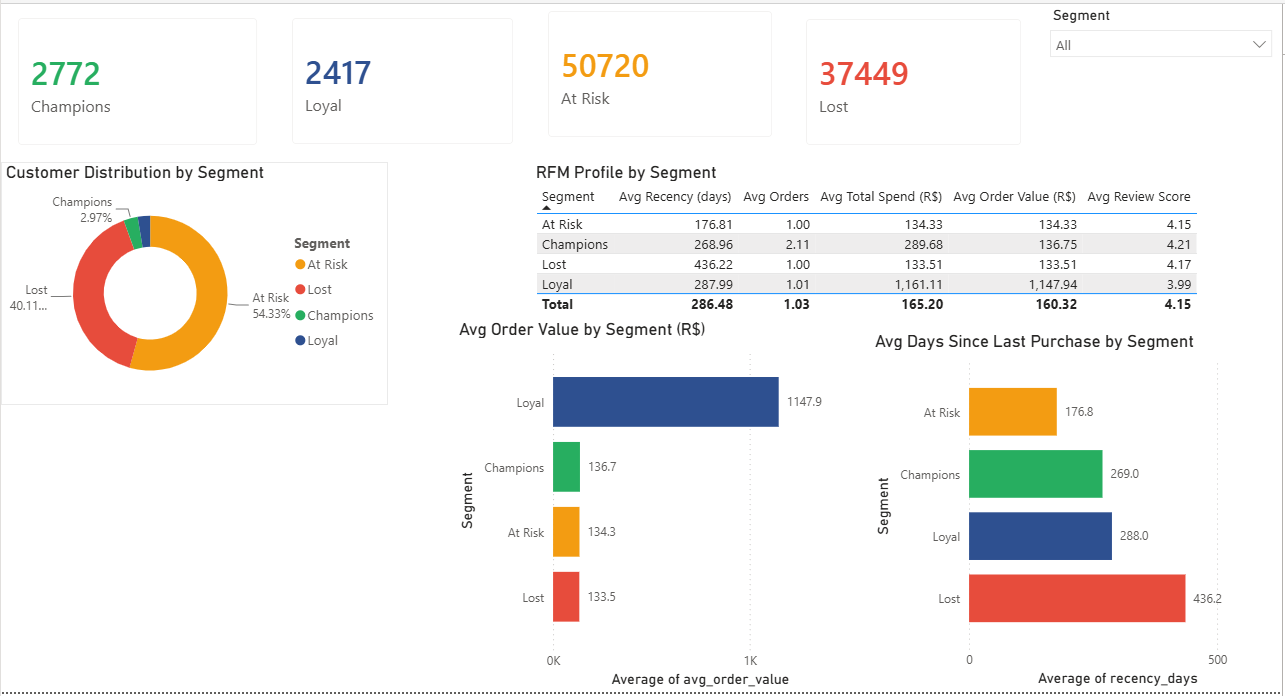

This screenshot's page, from the dashboard's own definition file:
{"tool":"powerbi","page":{"name":"Customer Segments","canvas":[1280,720],"ordinal":1},"visuals":[{"type":"cardVisual","fields":{"Data":["olist_customers_rfm.Champions Count"]},"box":[0,30.2,273.3,161.5],"z":0},{"type":"cardVisual","fields":{"Data":["olist_customers_rfm.Loyal Count"]},"box":[273.3,30.2,255.8,160.5],"z":1},{"type":"cardVisual","fields":{"Data":["olist_customers_rfm.At Risk Count"]},"box":[529.1,23.3,258.7,160.5],"z":2},{"type":"cardVisual","fields":{"Data":["olist_customers_rfm.Lost Count"]},"box":[787.8,31.1,250,160.5],"z":3},{"type":"donutChart","title":"Customer Distribution by Segment","fields":{"Category":["olist_customers_rfm.Segment"],"Y":["Count(olist_customers_rfm.customer_unique_id)"]},"box":[0,190.6,387.1,243.2],"z":4},{"type":"tableEx","title":"RFM Profile by Segment","fields":{"Values":["olist_customers_rfm.Segment","Avg(olist_customers_rfm.recency_days)","Avg(olist_customers_rfm.frequency)","Avg(olist_customers_rfm.monetary)","Avg(olist_customers_rfm.avg_order_value)","Avg(olist_customers_rfm.avg_review)"]},"box":[529.1,190.6,677.9,156.6],"z":5},{"type":"clusteredBarChart","title":"Avg Order Value by Segment (R$)","fields":{"Category":["olist_customers_rfm.Segment"],"Y":["Avg(olist_customers_rfm.avg_order_value)"]},"box":[452.3,347.2,405.6,372.5],"z":6},{"type":"clusteredBarChart","title":"Avg Days Since Last Purchase by Segment","fields":{"Category":["olist_customers_rfm.Segment"],"Y":["Avg(olist_customers_rfm.recency_days)"]},"box":[868.6,359.9,411.4,359.9],"z":7},{"type":"slicer","fields":{"Values":["olist_customers_rfm.Segment"]},"box":[1037.8,31.1,242.2,80.7],"z":8}]}

Visuals, with their boxes on the page's 1280x720 design canvas (x1, y1, x2, y2). These are canvas units, not pixel positions in the 1285x696 screenshot, which may show the page scaled, cropped or inside an application window:
cardVisual - olist_customers_rfm.Champions Count: {"x1": 0, "y1": 30, "x2": 273, "y2": 192}
cardVisual - olist_customers_rfm.Loyal Count: {"x1": 273, "y1": 30, "x2": 529, "y2": 191}
cardVisual - olist_customers_rfm.At Risk Count: {"x1": 529, "y1": 23, "x2": 788, "y2": 184}
cardVisual - olist_customers_rfm.Lost Count: {"x1": 788, "y1": 31, "x2": 1038, "y2": 192}
"Customer Distribution by Segment" donutChart: {"x1": 0, "y1": 191, "x2": 387, "y2": 434}
"RFM Profile by Segment" tableEx: {"x1": 529, "y1": 191, "x2": 1207, "y2": 347}
"Avg Order Value by Segment (R$)" clusteredBarChart: {"x1": 452, "y1": 347, "x2": 858, "y2": 720}
"Avg Days Since Last Purchase by Segment" clusteredBarChart: {"x1": 869, "y1": 360, "x2": 1280, "y2": 720}
slicer - olist_customers_rfm.Segment: {"x1": 1038, "y1": 31, "x2": 1280, "y2": 112}
